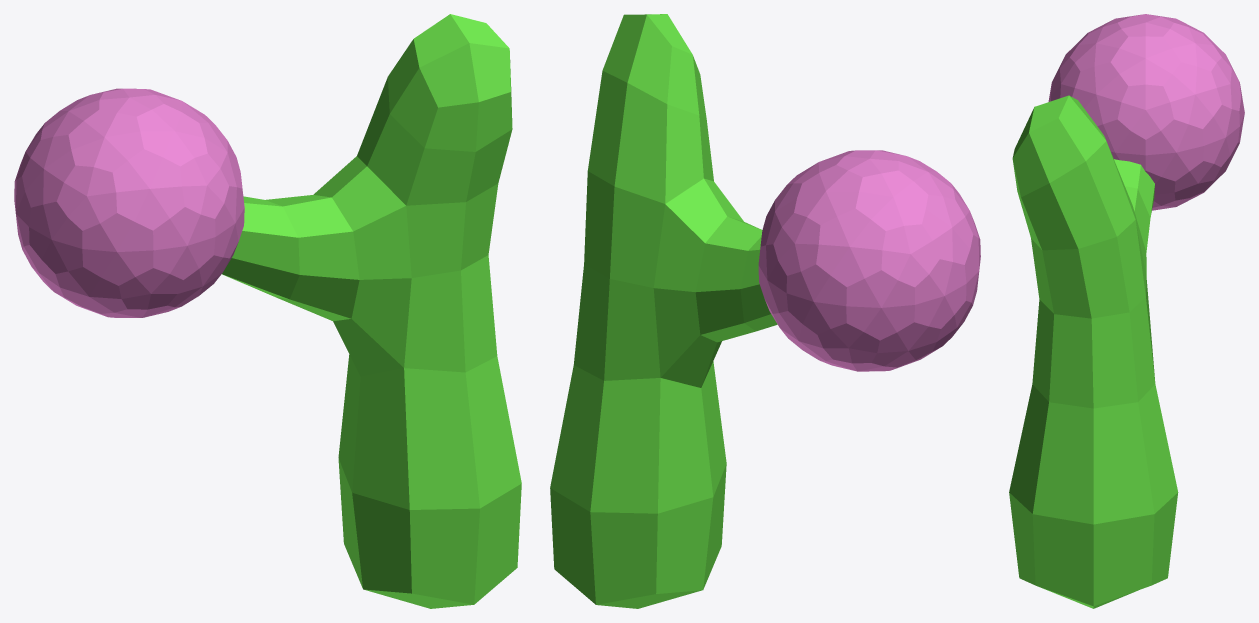
File: Plant.fbx
3 renders of one model, left to right at view 1: azimuth 30°, elevation 25°; view 2: azimuth 150°, elevation 25°; view 3: azimuth 270°, elevation 25°, orthographic. The views are drawn at different scales.
Parts seen in each view (by area): view 1: Beht.002; view 2: Beht.002; view 3: Beht.002.
Boxes of the visible parts, x1,y1,x2,y2 form: Beht.002: [14, 14, 521, 608]; Beht.002: [550, 14, 980, 608]; Beht.002: [1009, 14, 1244, 608].
Bounding box in the file's own units: 40.95 × 52.77 × 21.87.
